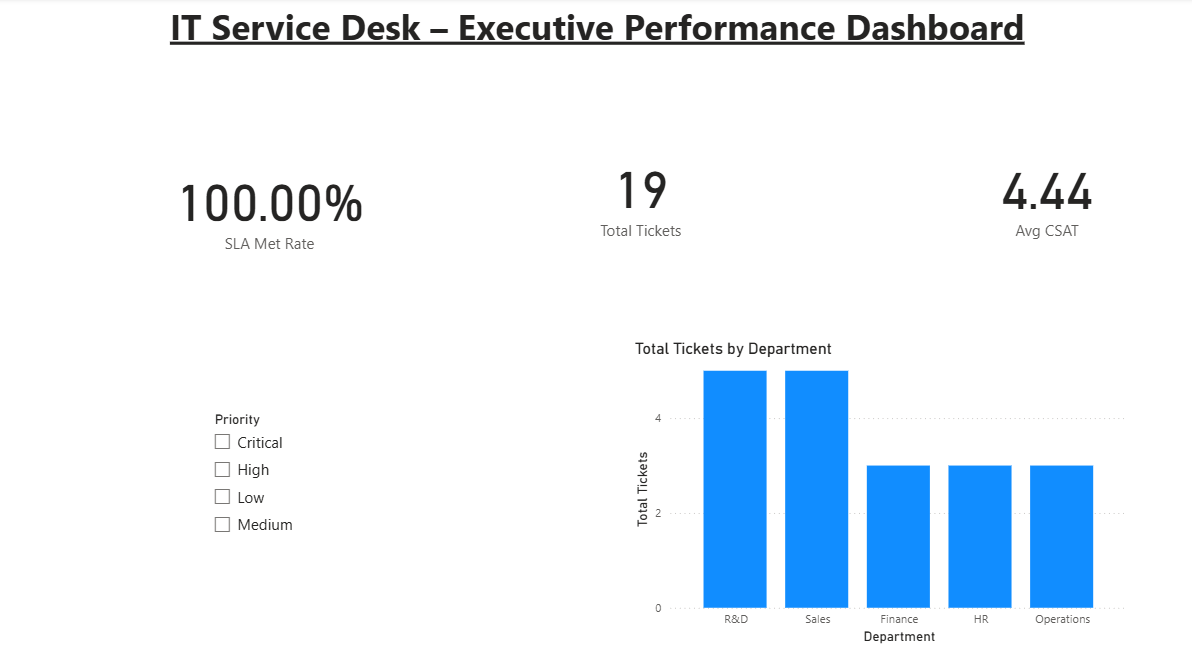

The dashboard page shown, as its layout file describes it:
{"tool":"powerbi","page":{"name":"Page 1","canvas":[1280,720],"ordinal":0},"visuals":[{"type":"card","fields":{"Values":["Tickets.Total Tickets"]},"box":[545.6,68.4,279.9,279.9],"z":0},{"type":"card","fields":{"Values":["Tickets.SLA Met Rate"]},"box":[152.7,81.1,278.4,281.5],"z":1000},{"type":"card","fields":{"Values":["Tickets.Avg CSAT"]},"box":[977,81.3,279.7,255.1],"z":2000},{"type":"columnChart","fields":{"Category":["Tickets.Department"],"Y":["Tickets.Total Tickets"]},"box":[674.4,362.7,532.9,327.7],"z":3000},{"type":"slicer","fields":{"Values":["Tickets.Priority"]},"box":[221.1,434.2,291.1,267.2],"z":4000},{"type":"textbox","box":[0,0,1279.4,81.3],"z":5000}]}

Visuals, with their boxes in screenshot pixels (x1, y1, x2, y2), scaled from the page's 1280x720 canvas onto the 1192x653 screenshot:
card - Tickets.Total Tickets: (508, 62, 769, 316)
card - Tickets.SLA Met Rate: (142, 74, 401, 329)
card - Tickets.Avg CSAT: (910, 74, 1170, 305)
columnChart - Tickets.Department x Tickets.Total Tickets: (628, 329, 1124, 626)
slicer - Tickets.Priority: (206, 394, 477, 636)
textbox: (0, 0, 1191, 74)
